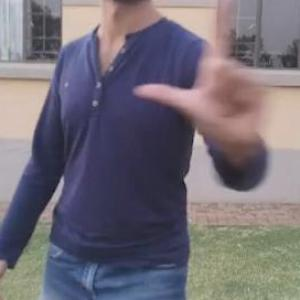land_hand: (125, 0, 266, 143)
